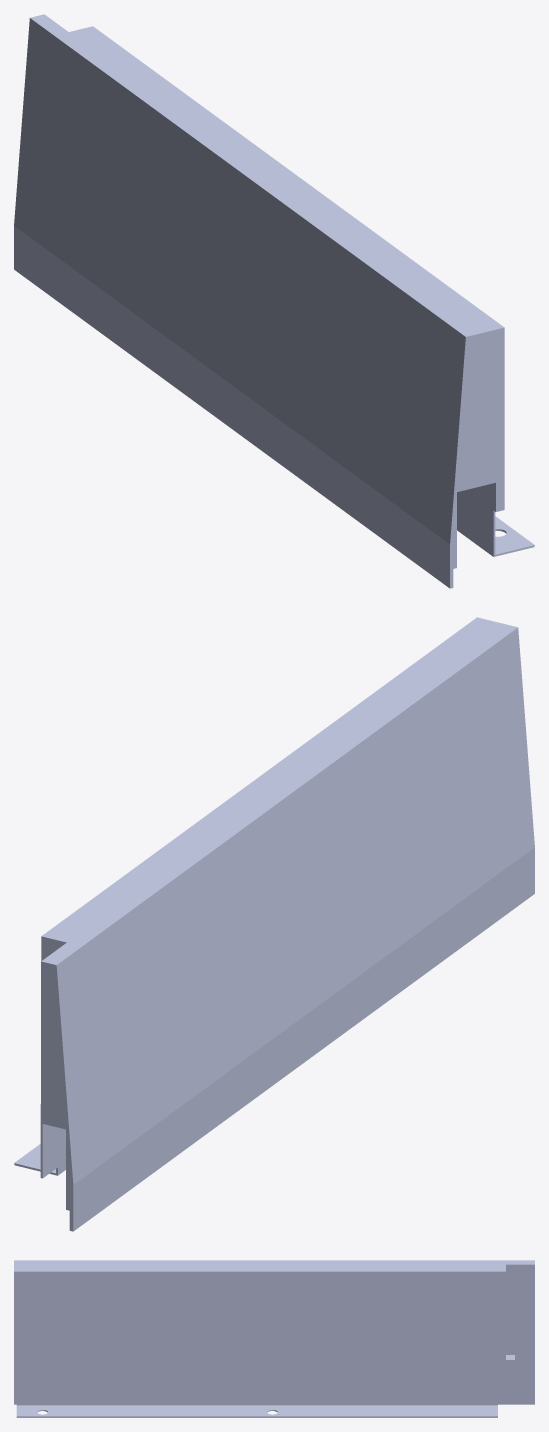
The model's file is mv-kava-M300-p.glb.
3 renders of one model, top to bottom at view 1: azimuth 30°, elevation 25°; view 2: azimuth 150°, elevation 25°; view 3: azimuth 270°, elevation 25°, orthographic. The views are drawn at different scales.
Parts seen in each view (by area): view 1: 44537249; view 2: 44537249; view 3: 44537249.
Boxes of the visible parts, box(x1,y1,x2,y2) form: 44537249: box(14, 14, 534, 588); 44537249: box(14, 617, 534, 1231); 44537249: box(14, 1260, 534, 1417).
Size of the model in its own units: 0.0335 by 0.091 by 0.2902.
